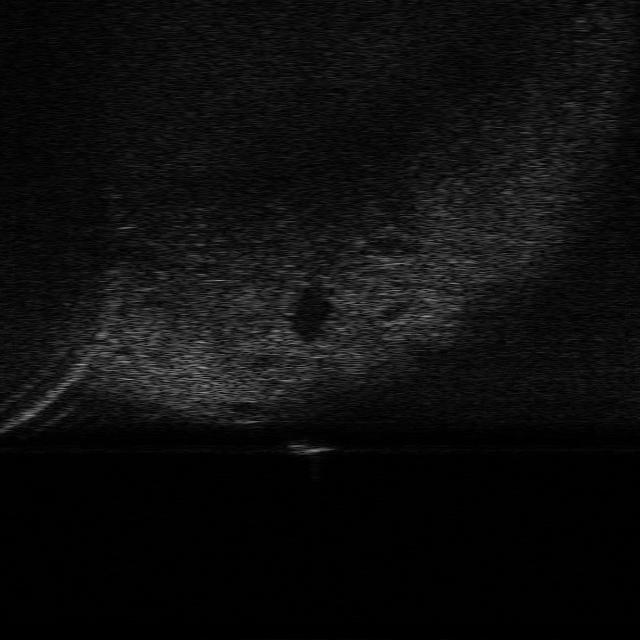cube: (280, 437, 338, 458)
